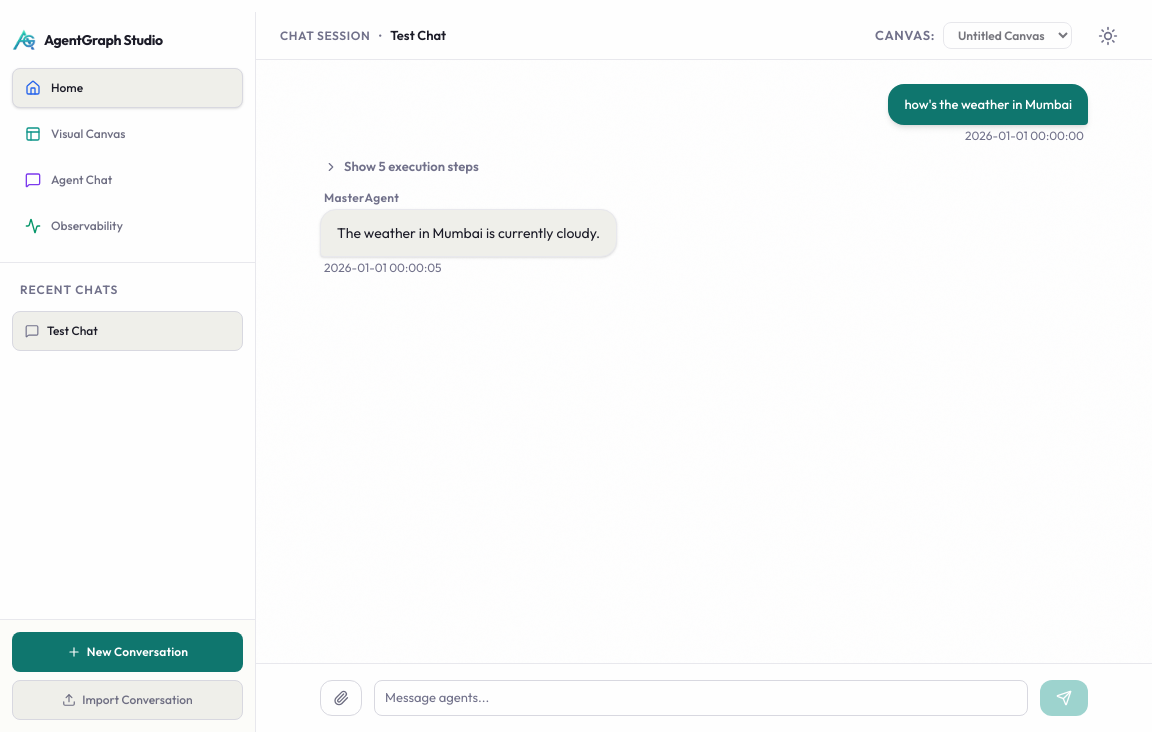
Scenario: ChatPage component › indents steps according to their nesting level in the graph wiring
Check: the text "The weather in Mumbai is currently cloudy." is shown, box left=337, top=222, right=600, bottom=244
Click the button "Show 5 execution steps". click: (401, 167)
box: left=320, top=157, right=483, bottom=177
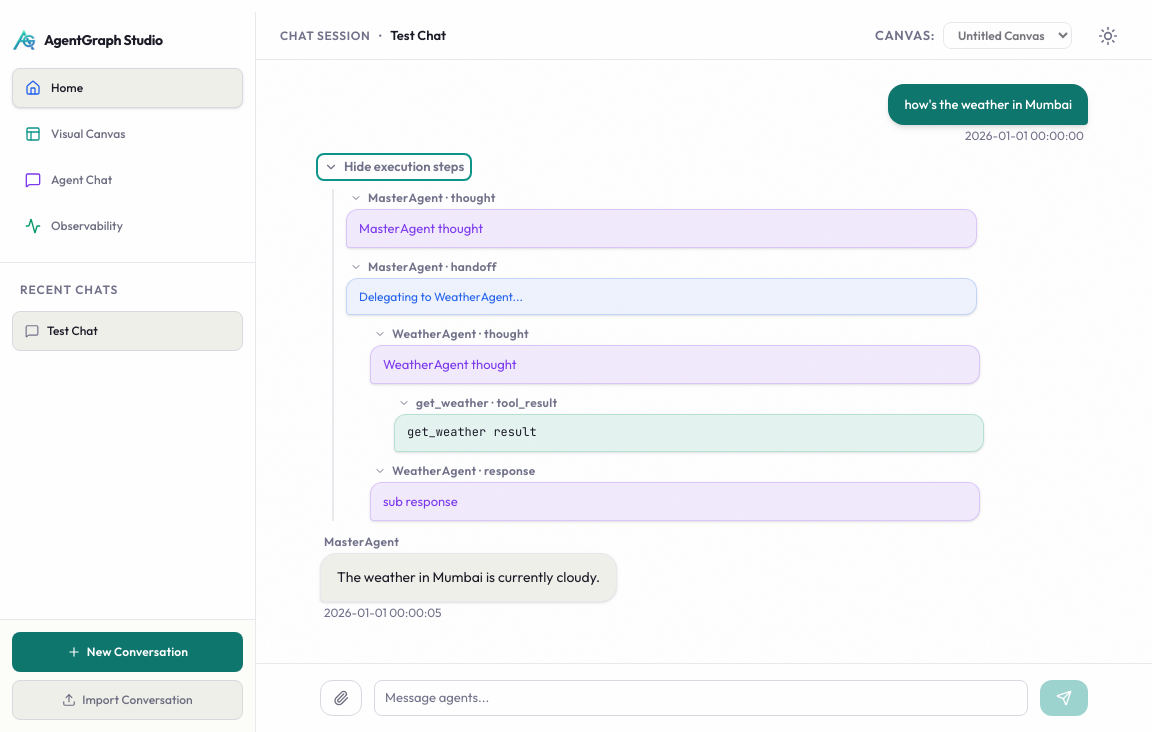
Check: the text "WeatherAgent · response" is shown, box left=392, top=462, right=536, bottom=480
